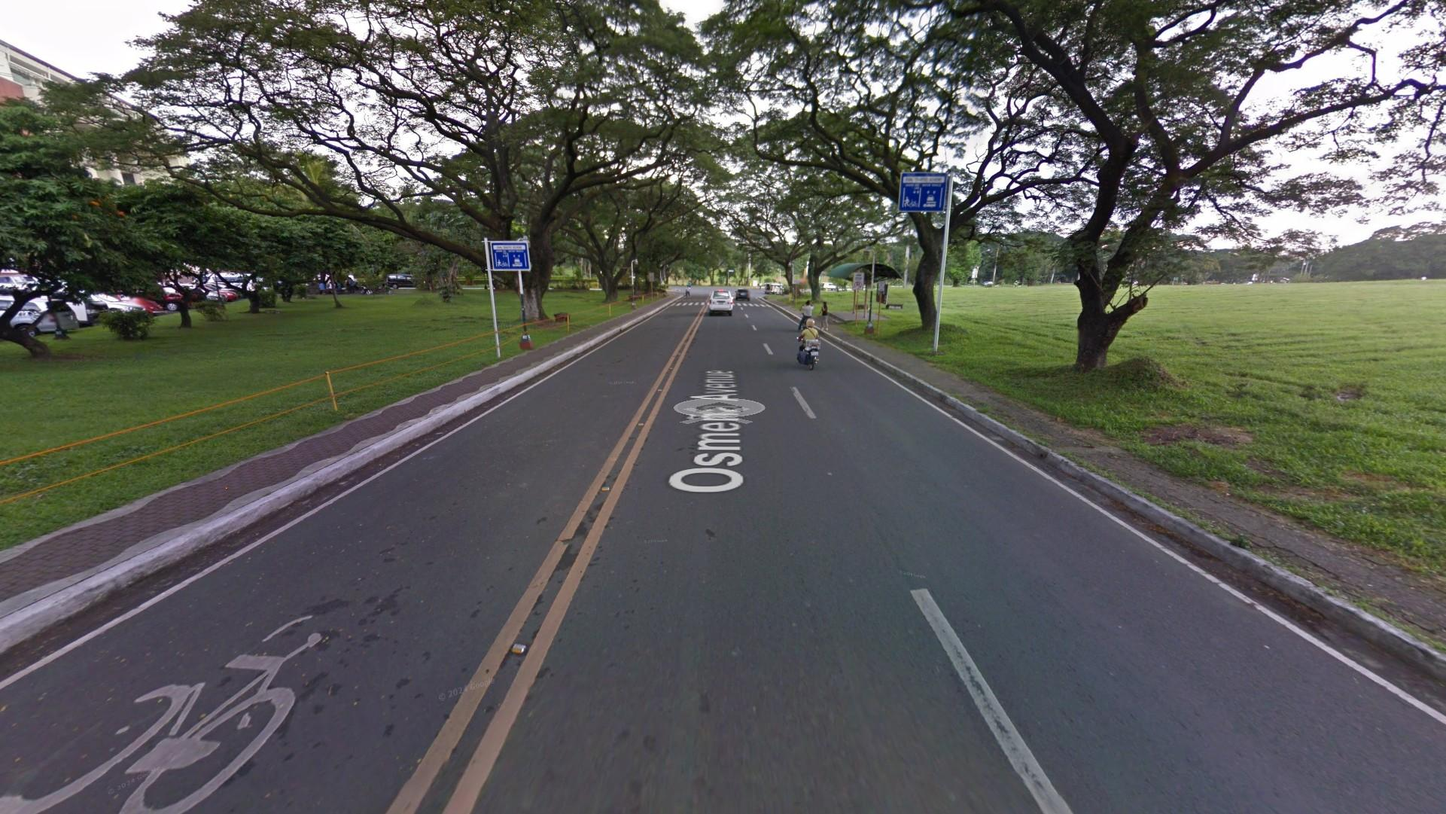cyclist: (685, 285, 690, 299)
pedestrian: (798, 300, 814, 331), (818, 301, 829, 331), (759, 282, 762, 290)
